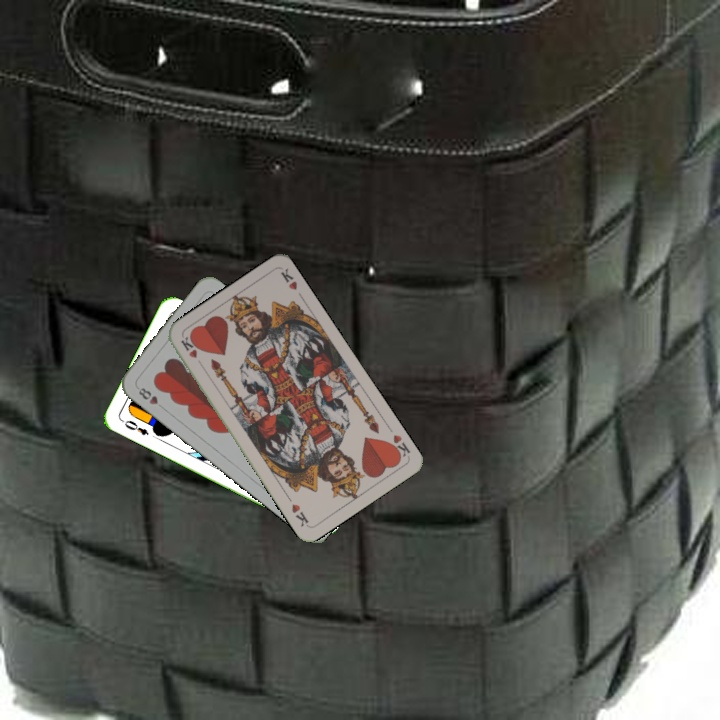EO: (118, 416, 151, 438)
H8: (134, 384, 167, 412)
HK: (176, 333, 206, 370), (385, 430, 413, 463)
